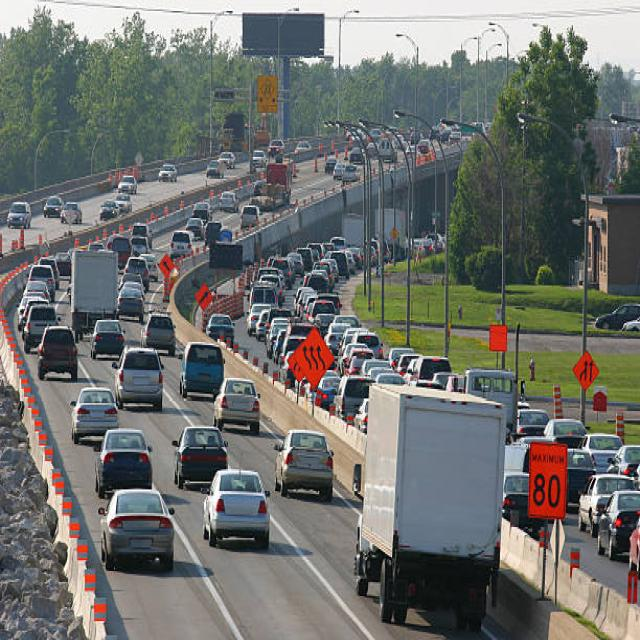Ad-signs: (527, 439, 567, 519), (286, 324, 334, 390)
Car: (97, 488, 175, 571), (202, 467, 270, 549), (274, 428, 334, 501), (93, 427, 152, 497), (577, 472, 636, 537), (171, 425, 228, 490), (112, 345, 163, 411), (596, 489, 639, 560), (69, 386, 118, 444), (212, 376, 260, 433), (36, 325, 78, 381), (90, 318, 124, 359), (6, 201, 32, 229), (59, 201, 82, 224), (42, 194, 63, 217), (205, 158, 225, 178), (158, 163, 177, 182)
Truck: (353, 381, 506, 629), (69, 247, 118, 341)
